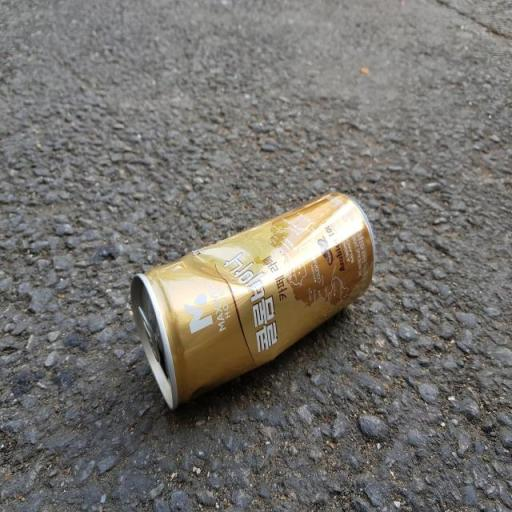metal: (100, 180, 388, 422)
